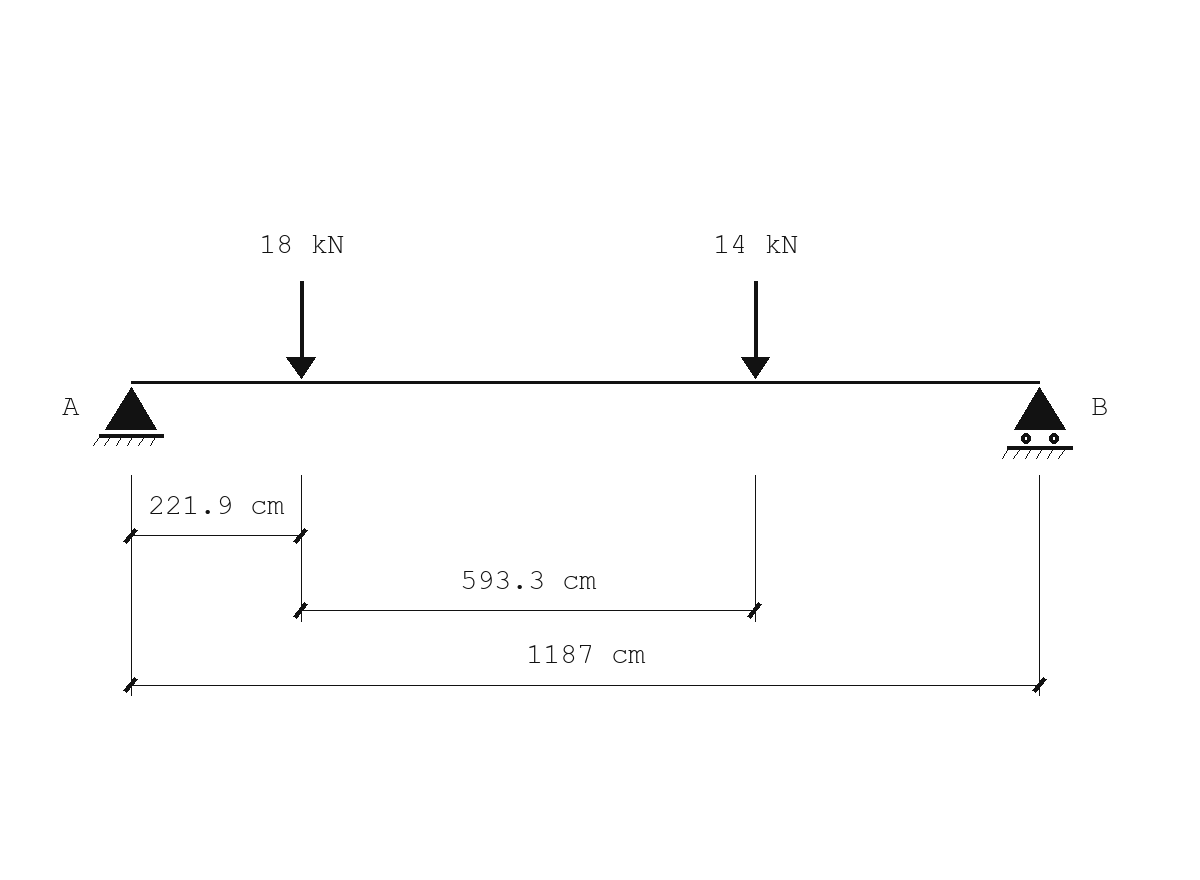pin_support: (93, 387, 164, 446)
point_load: (286, 281, 316, 379), (741, 281, 770, 379)
roller_support: (1002, 387, 1073, 459)
